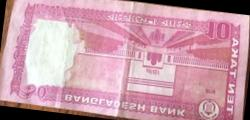10 taka: (16, 2, 238, 119)
